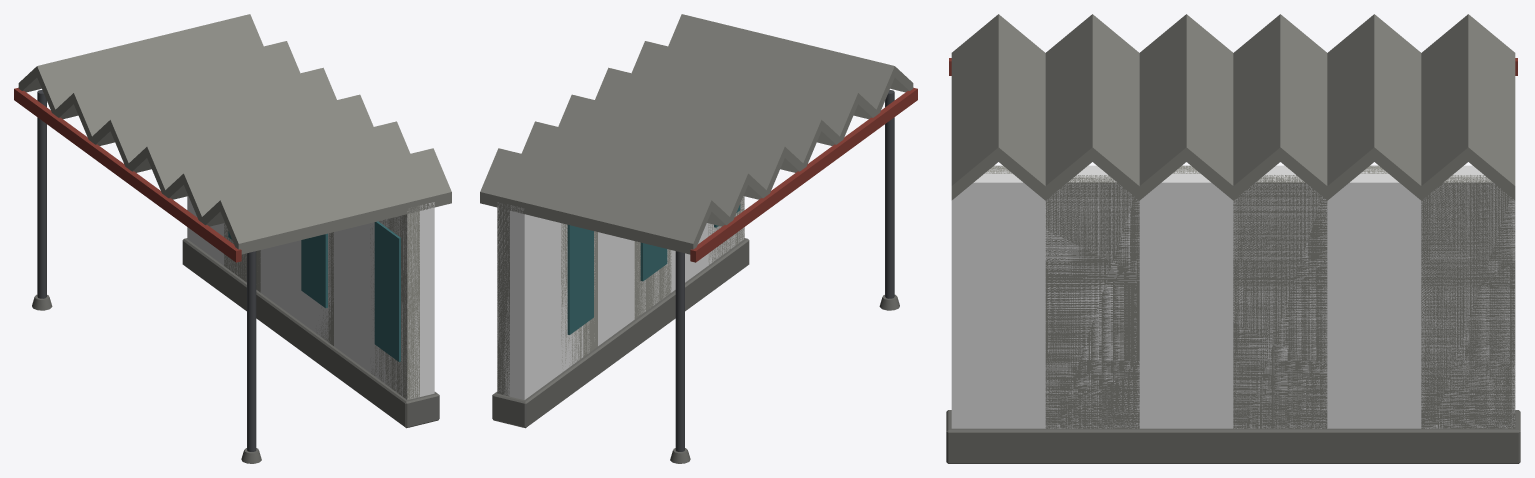
Rendered from stop-2.glb.
The picture shows the model from 3 angles, left to right: view 1: azimuth 30°, elevation 25°; view 2: azimuth 150°, elevation 25°; view 3: azimuth 270°, elevation 25°; orthographic projection. The views are drawn at different scales.
Parts seen in each view (by area): view 1: 00_#85857f, solid, 05_#6e6e6a, 01_#9a9a92, 02_paint0, 04_#4c4e52, 03_paint2; view 2: 00_#85857f, solid, 05_#6e6e6a, 01_#9a9a92, 04_#4c4e52, 03_paint2, 02_paint0; view 3: 00_#85857f, solid, 05_#6e6e6a.
Part boxes in pixels (<box>): 00_#85857f: <box>18,14,451,254</box>; solid: <box>187,196,434,399</box>; 05_#6e6e6a: <box>32,238,439,463</box>; 01_#9a9a92: <box>224,205,419,399</box>; 02_paint0: <box>228,221,400,361</box>; 04_#4c4e52: <box>37,90,256,451</box>; 03_paint2: <box>14,87,241,262</box>; 00_#85857f: <box>480,14,913,396</box>; solid: <box>497,196,744,399</box>; 05_#6e6e6a: <box>492,238,899,463</box>; 01_#9a9a92: <box>561,196,744,366</box>; 04_#4c4e52: <box>675,90,894,451</box>; 03_paint2: <box>690,87,917,262</box>; 02_paint0: <box>567,204,740,334</box>; 00_#85857f: <box>951,14,1515,428</box>; solid: <box>951,165,1515,428</box>; 05_#6e6e6a: <box>946,410,1520,463</box>.
Bounding box in the file's own units: 2.39 × 2.68 × 4.28.
